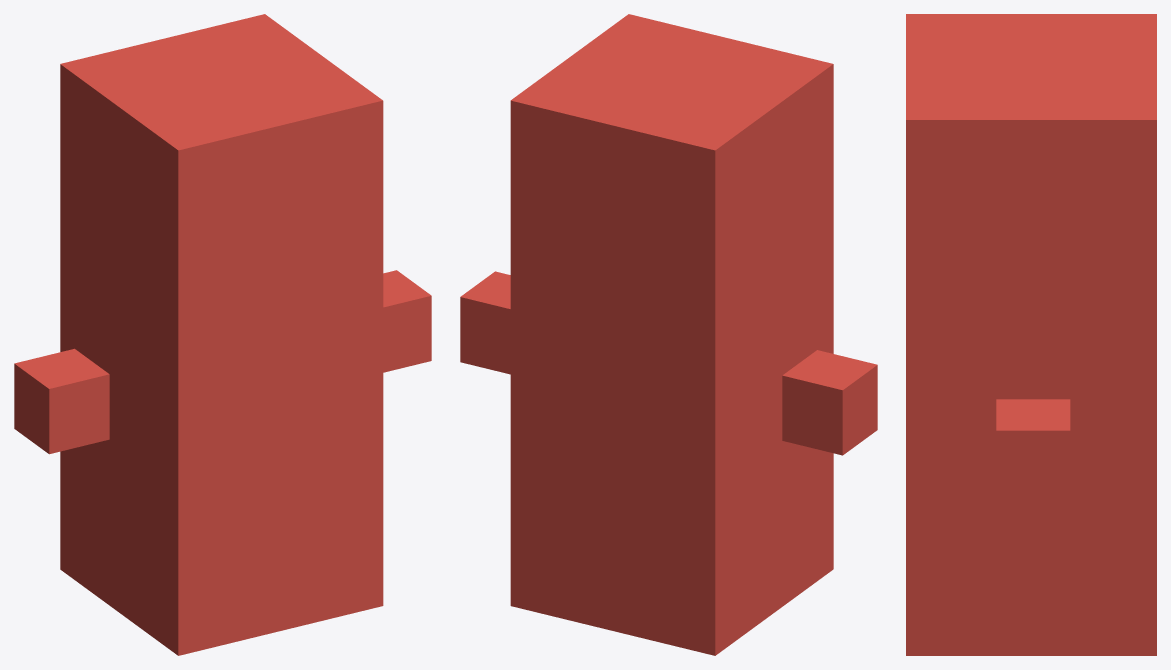
Rendered from Player.fbx.
3 views of the same model, side by side, from view 1: azimuth 30°, elevation 25°; view 2: azimuth 150°, elevation 25°; view 3: azimuth 270°, elevation 25° (orthographic). The views are drawn at different scales.
Parts seen in each view (by area): view 1: Player, Right Hand, Left Hand; view 2: Player, Right Hand, Left Hand; view 3: Player, Left Hand.
Part boxes in pixels (bbox=[...]): Player: bbox=[60, 14, 383, 655]; Right Hand: bbox=[14, 348, 109, 454]; Left Hand: bbox=[383, 270, 431, 372]; Player: bbox=[510, 14, 833, 655]; Right Hand: bbox=[782, 350, 877, 455]; Left Hand: bbox=[460, 271, 510, 374]; Player: bbox=[906, 14, 1156, 655]; Left Hand: bbox=[996, 399, 1070, 499].
Bounding box in the file's own units: 2.77 × 3.49 × 1.48.
